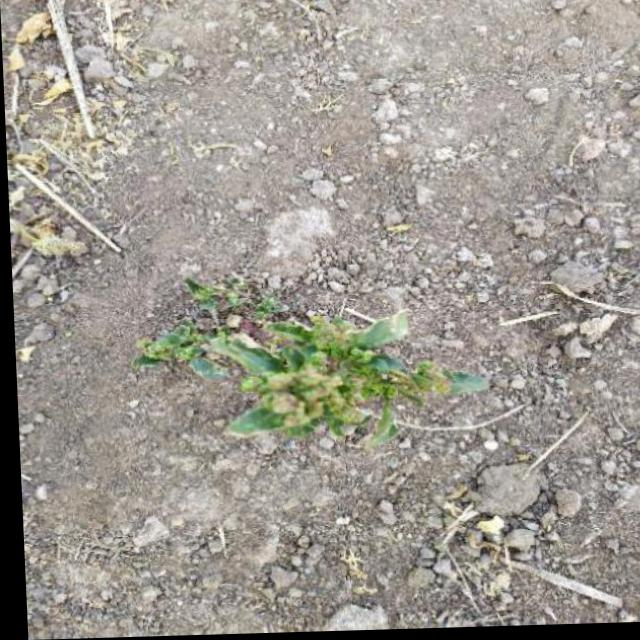weed: (142, 267, 479, 467)
